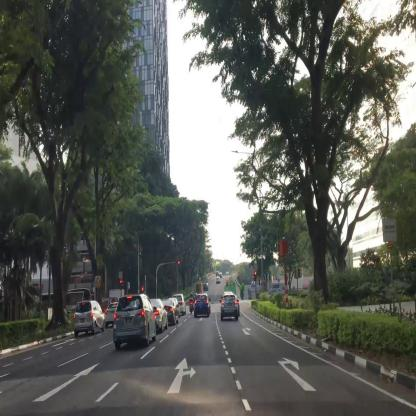red_traffic_light: (120, 279, 122, 289), (254, 272, 256, 280)
